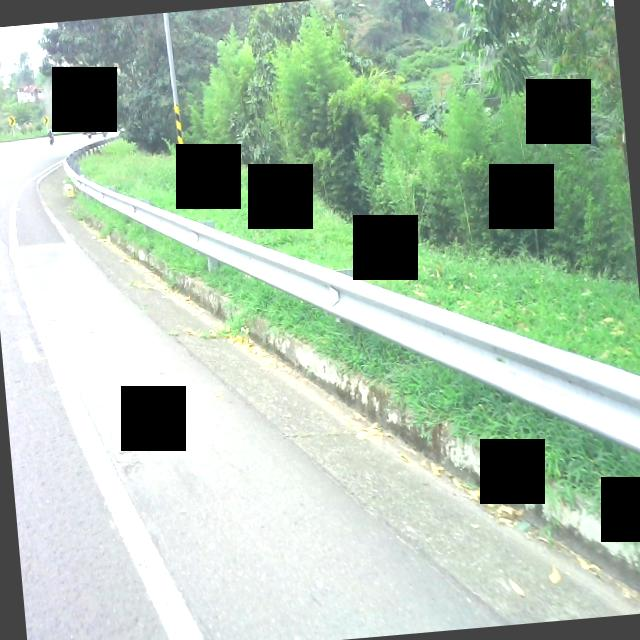DITCH: (0, 26, 640, 640), (56, 88, 640, 640)
